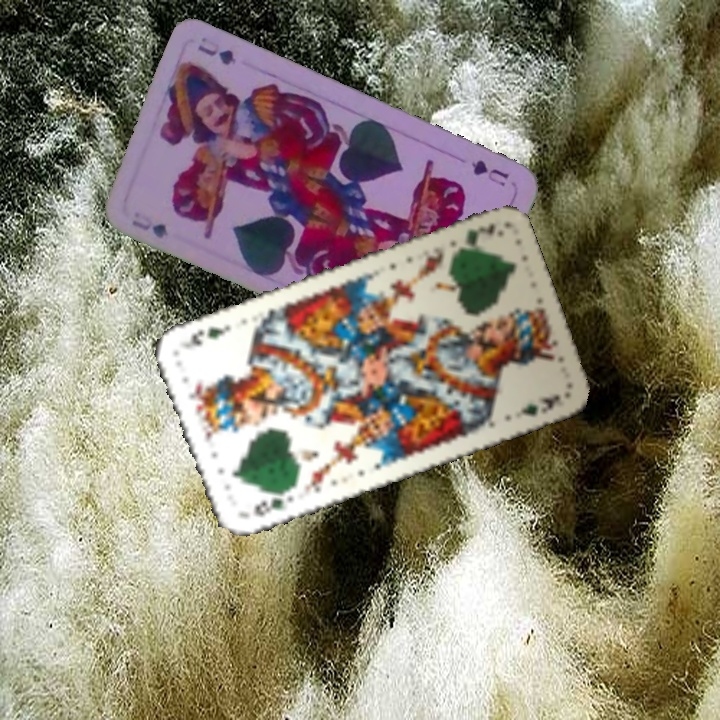GK: (248, 485, 292, 520), (460, 219, 500, 248)
GU: (467, 155, 512, 190), (127, 214, 171, 242)
